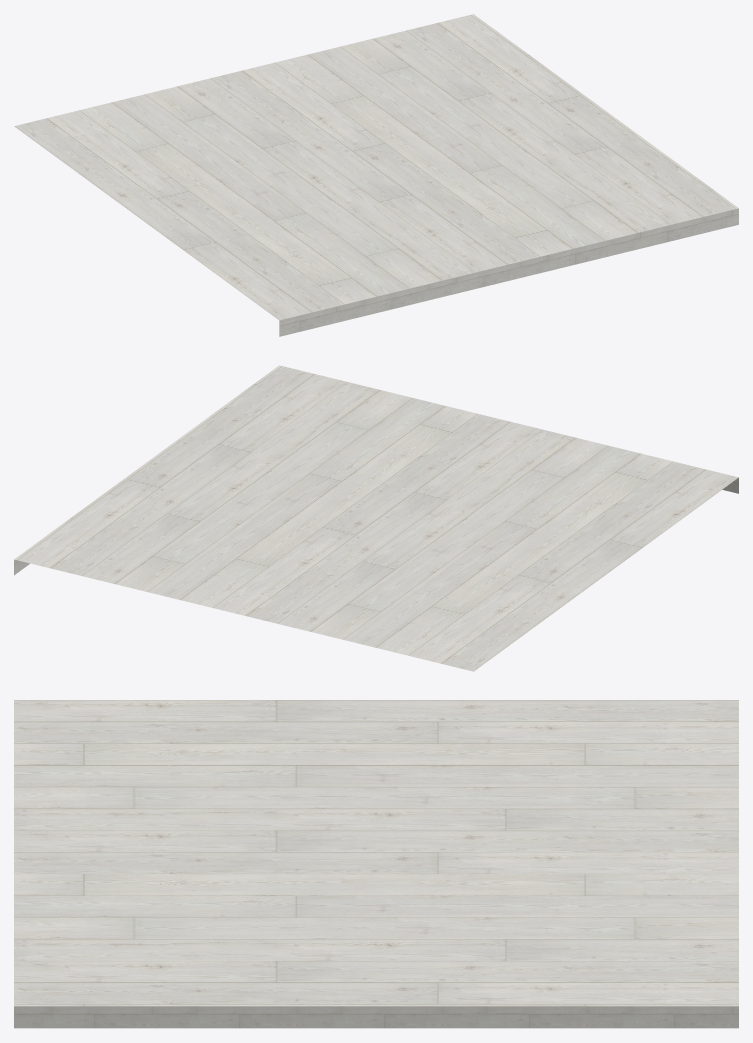
The model's file is floor.glb.
The picture shows the model from 3 angles, top to bottom: view 1: azimuth 30°, elevation 25°; view 2: azimuth 150°, elevation 25°; view 3: azimuth 270°, elevation 25°; orthographic projection. The views are drawn at different scales.
Visible parts, largest first — view 1: Плоскость; view 2: Плоскость; view 3: Плоскость.
Part boxes in pixels (x1=…): Плоскость: x1=14, y1=14, x2=738, y2=336; Плоскость: x1=14, y1=365, x2=738, y2=671; Плоскость: x1=14, y1=700, x2=738, y2=1028.
Size of the model in its own units: 5.34 by 0.1826 by 5.34.
1 material, 1 textured.
